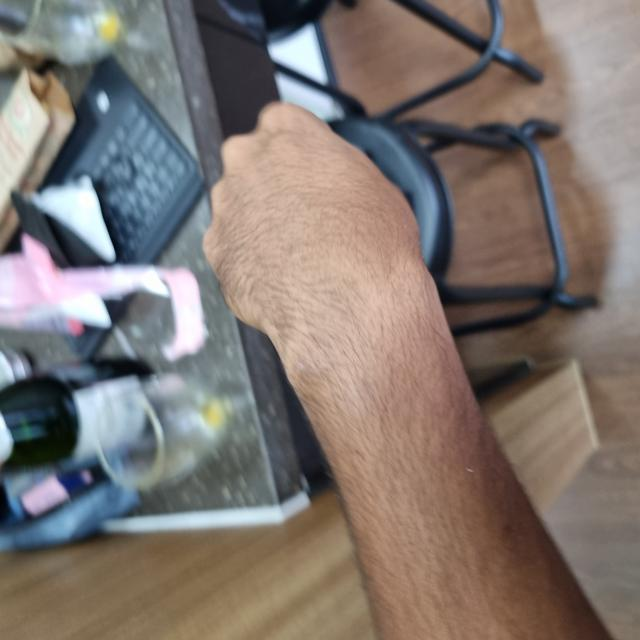Rock: (215, 204, 536, 468)
